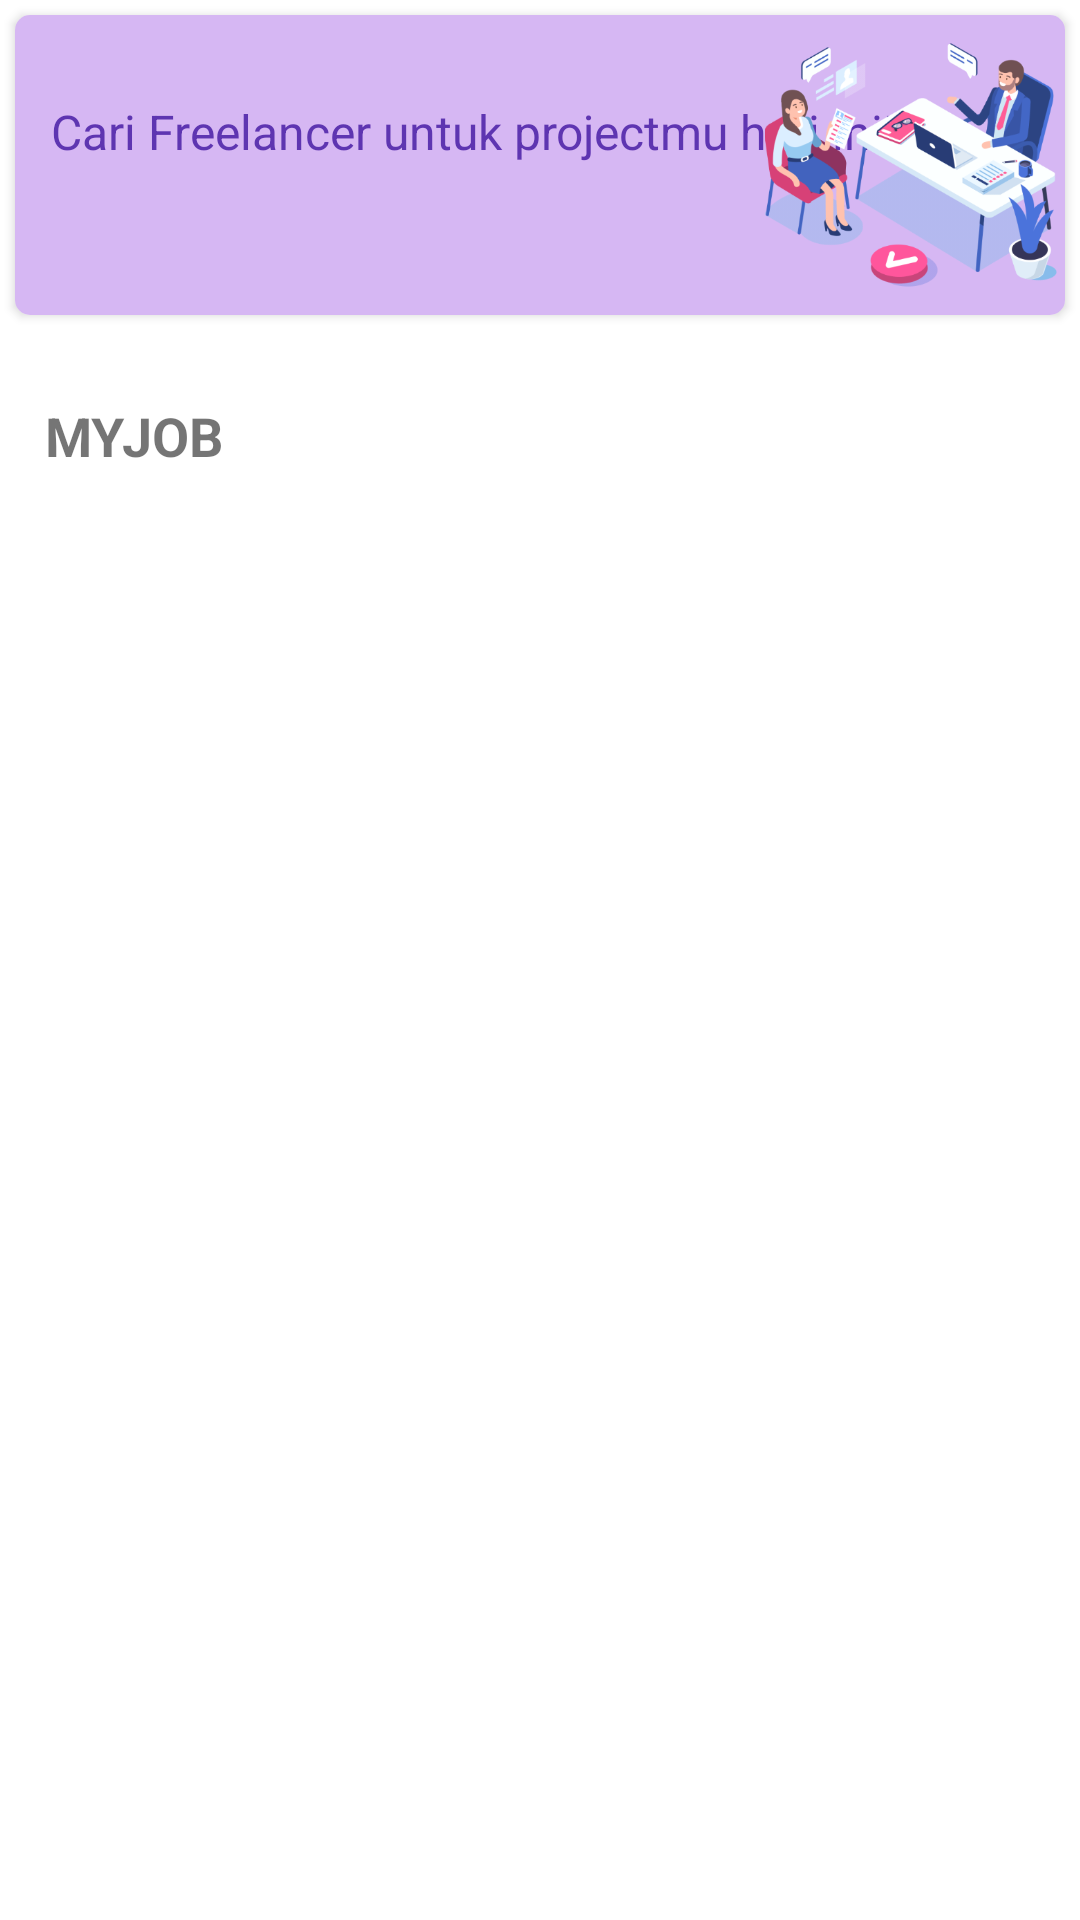

Locate icon controls on the screen. Image size 1080 × 1920, boxes as (x1, y1, x2, y2).
Gambar: (765, 15, 1065, 315)
